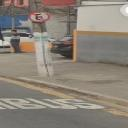NoEstacionar: (26, 11, 53, 23)
